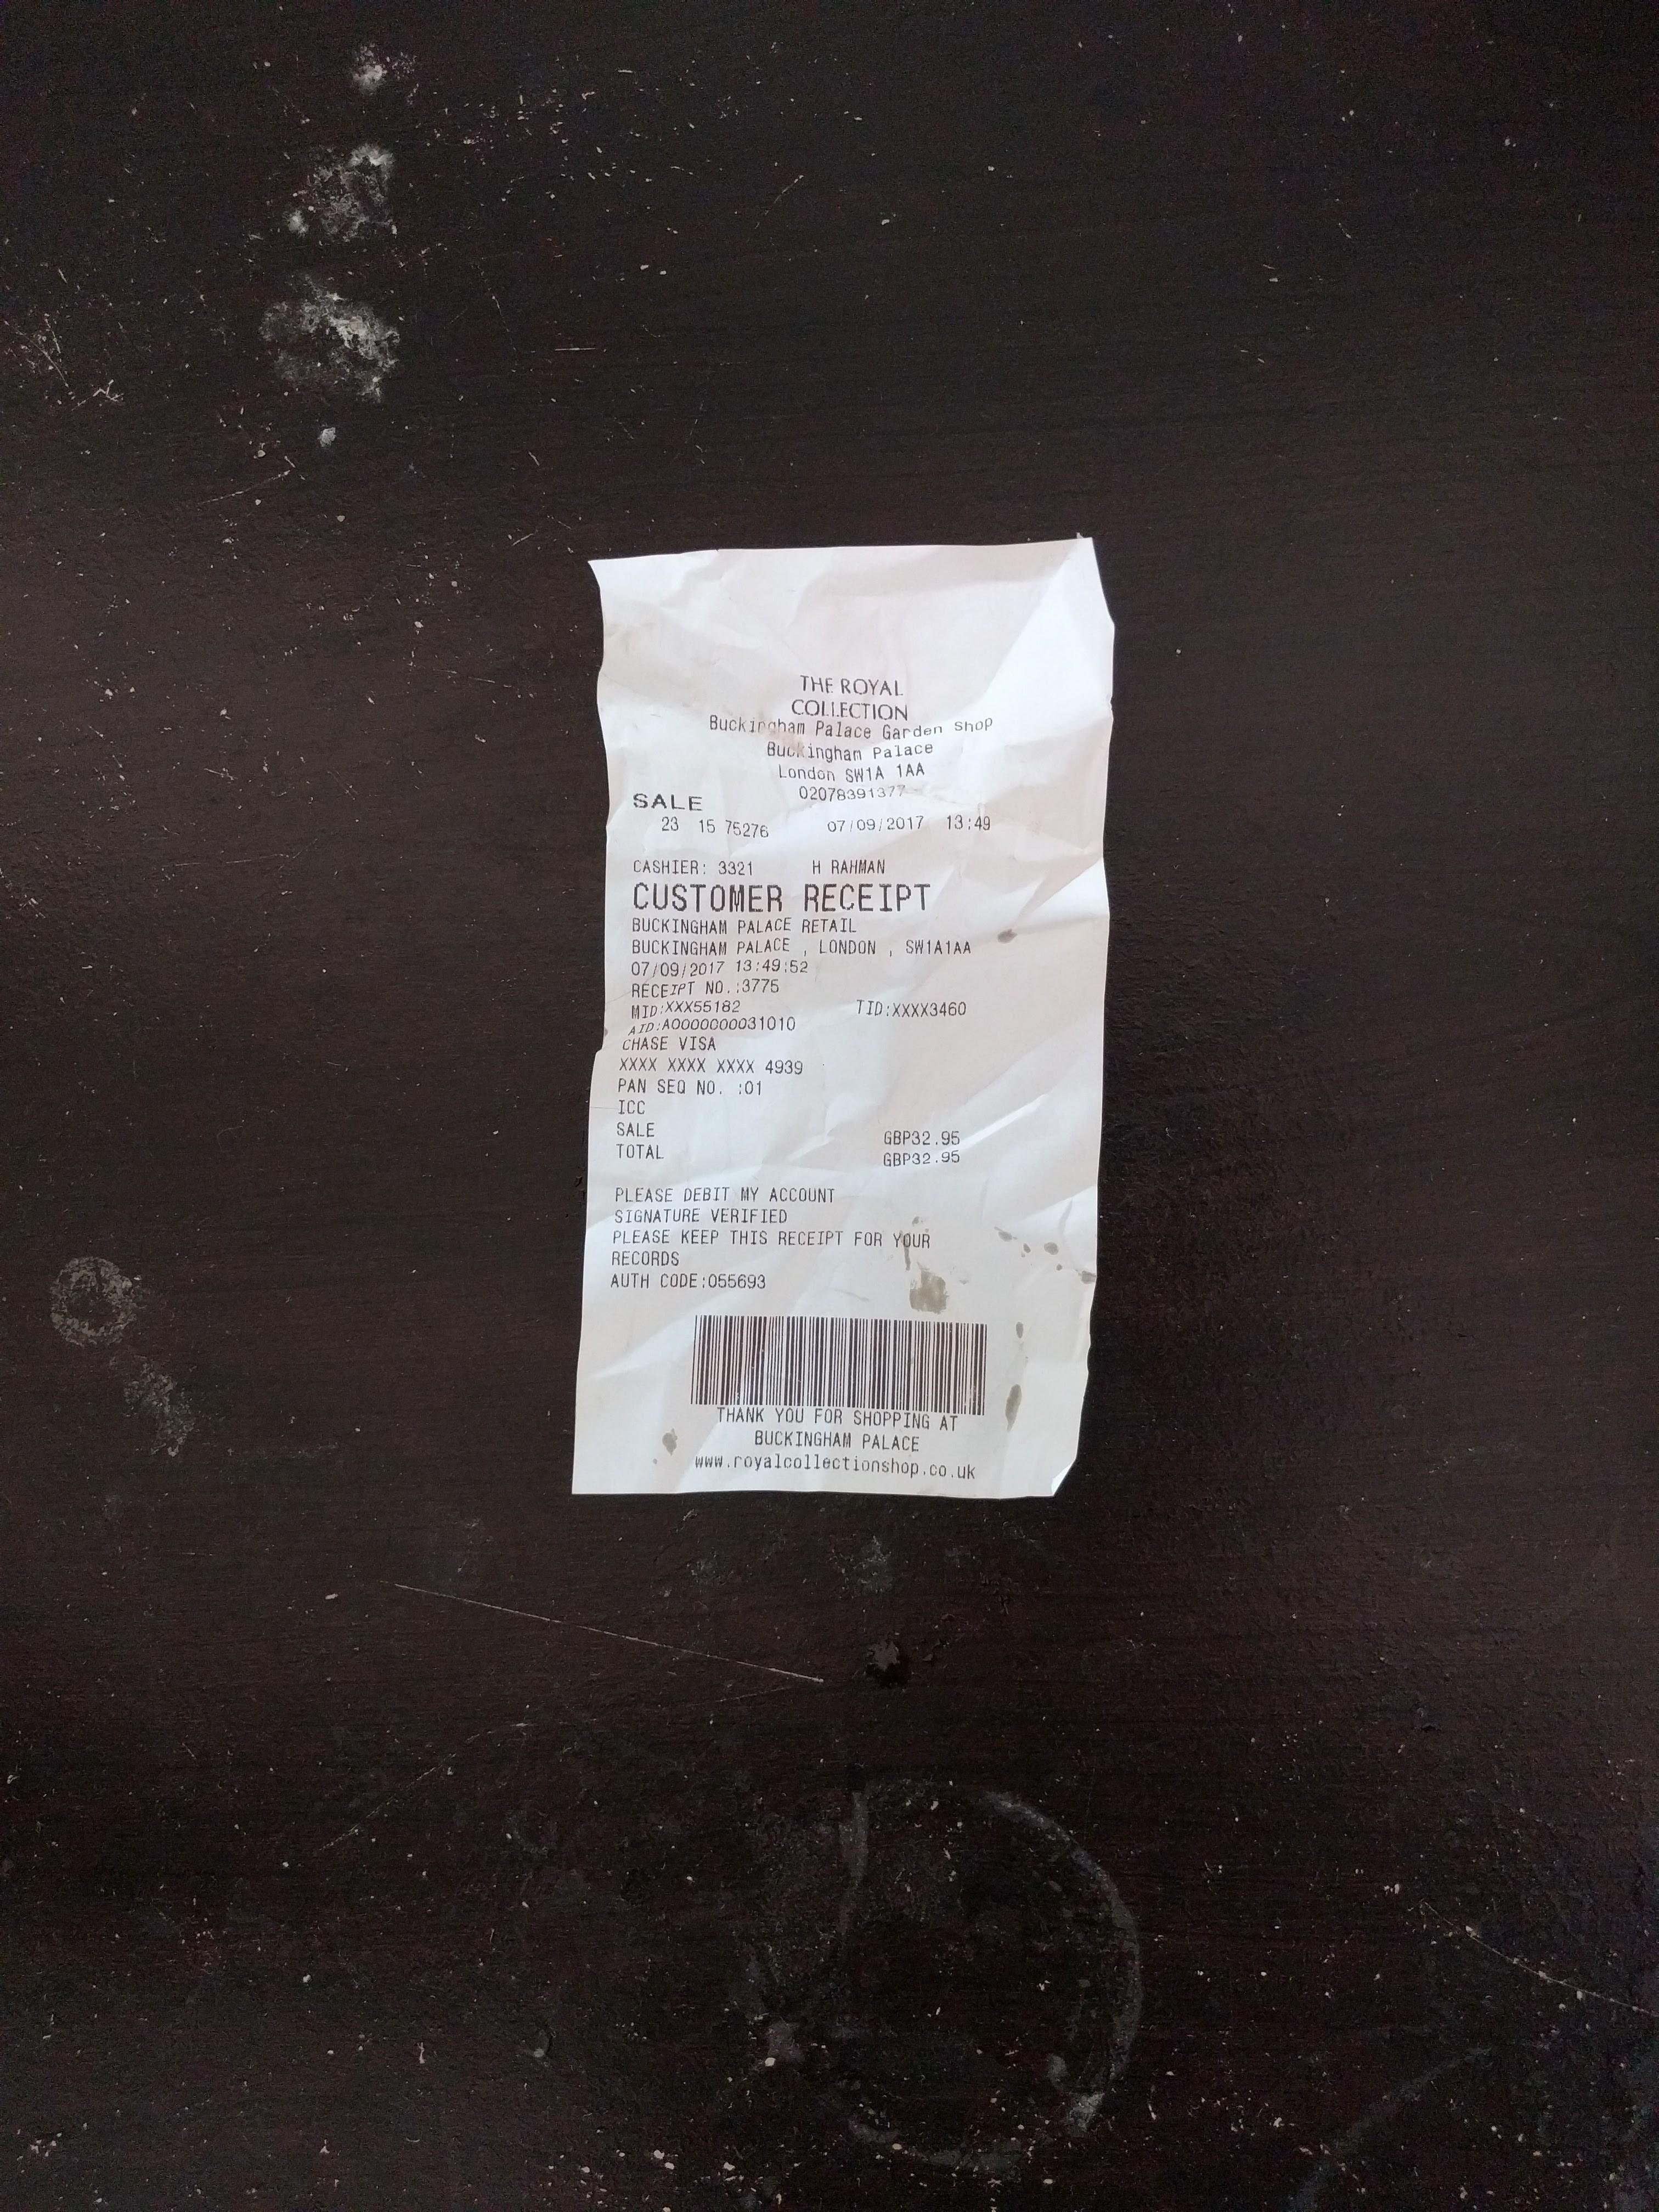paper: (420, 449, 1208, 1712)
